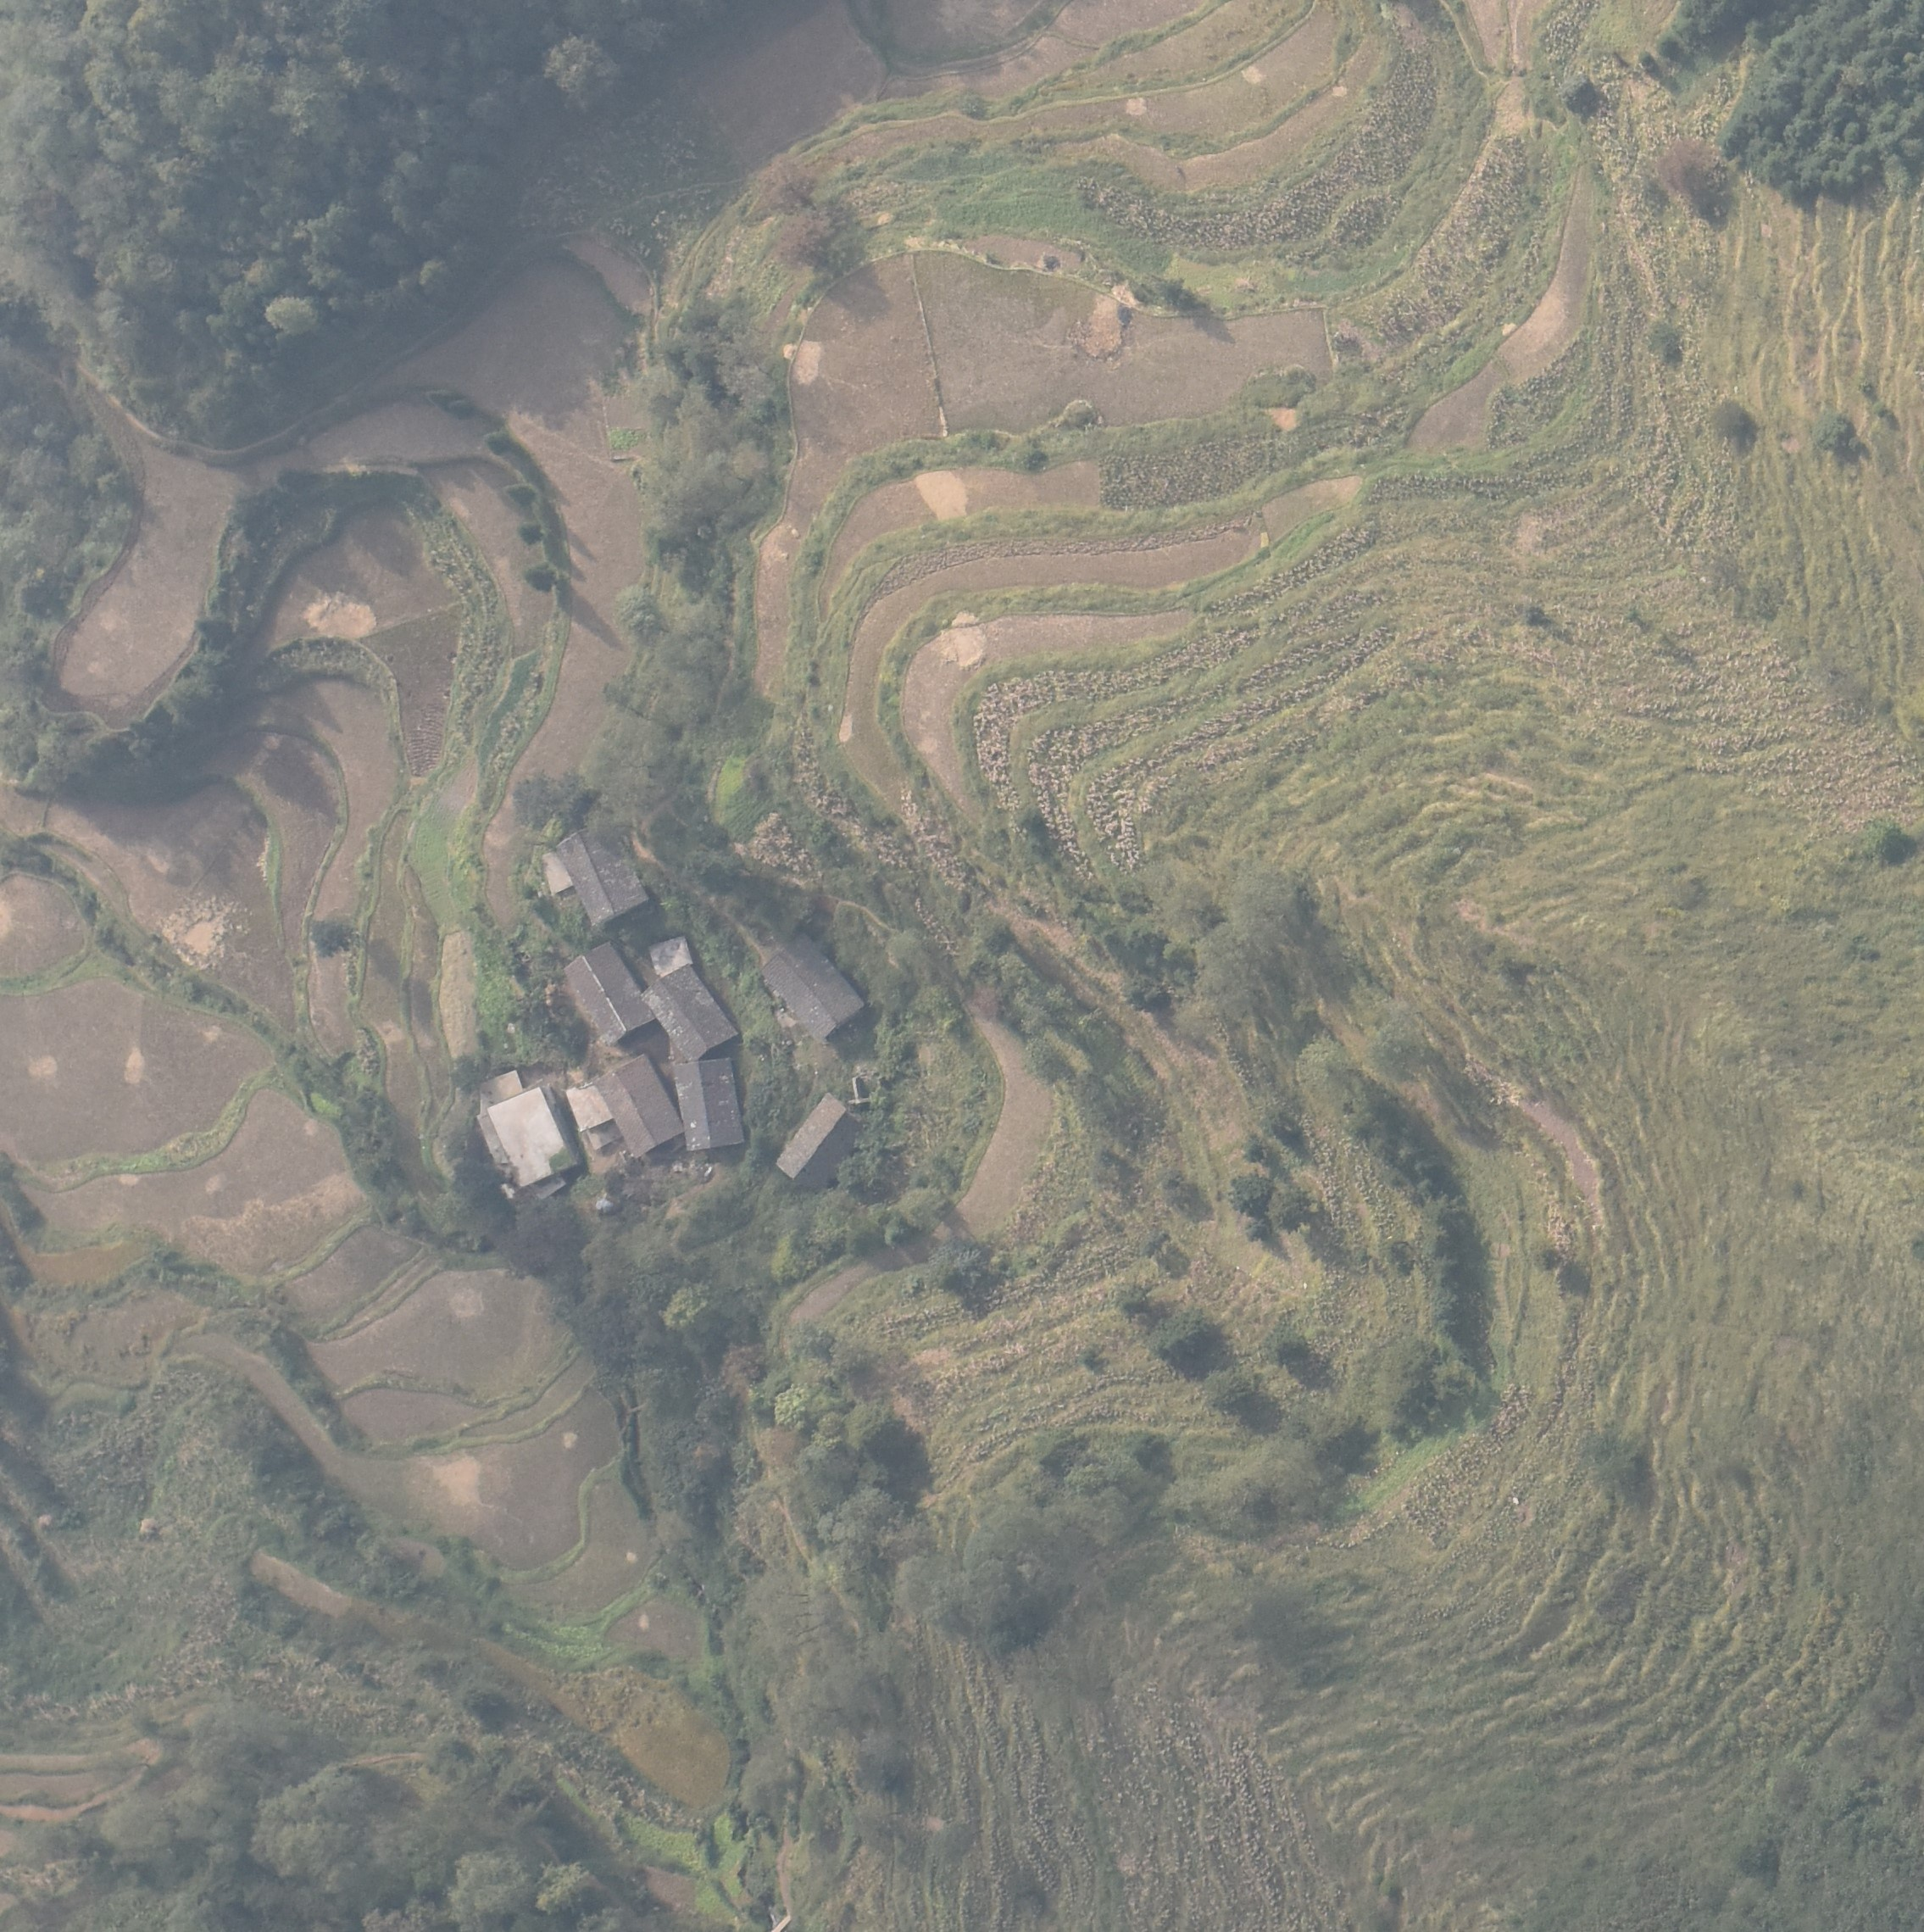building: (564, 1054, 685, 1155), (761, 933, 865, 1038), (543, 823, 647, 924), (566, 940, 657, 1042), (641, 966, 736, 1058), (488, 1086, 569, 1188), (777, 1091, 855, 1185), (673, 1058, 745, 1148), (652, 933, 694, 977)
